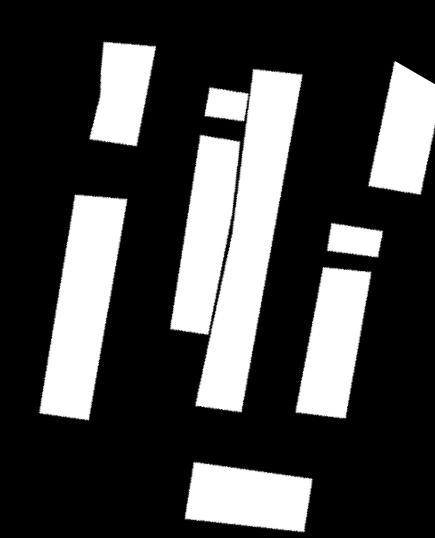parkingspot: (195, 69, 302, 412), (39, 195, 127, 420), (170, 135, 240, 335), (296, 267, 371, 418), (368, 61, 435, 195), (185, 462, 312, 532), (89, 42, 156, 146), (327, 223, 383, 257)
